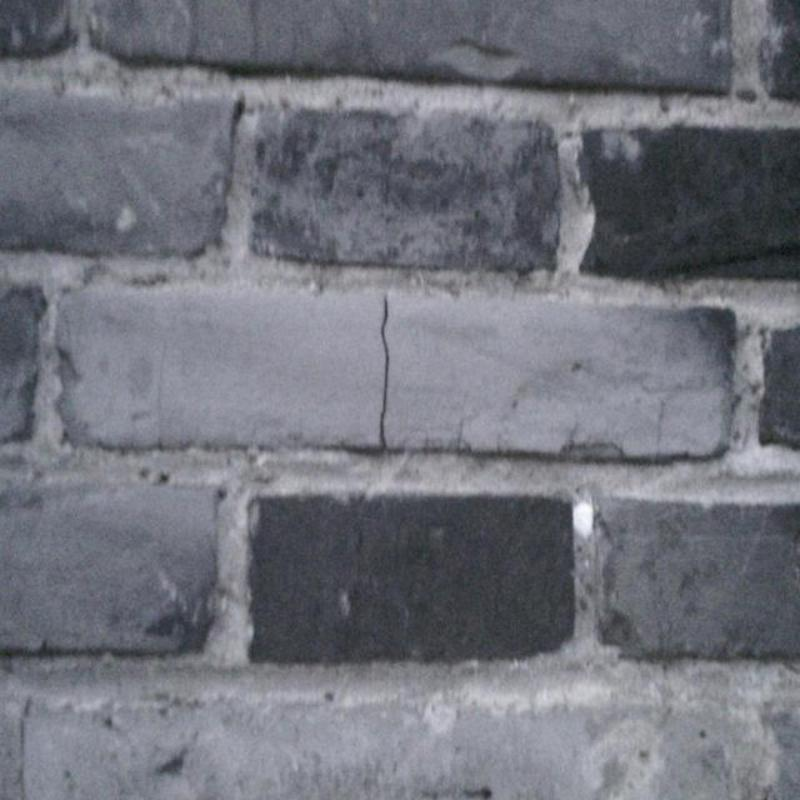crack: (380, 296, 391, 450), (18, 696, 32, 799)
